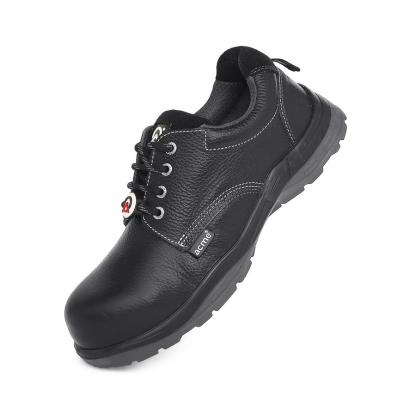bota: (59, 43, 349, 372)
